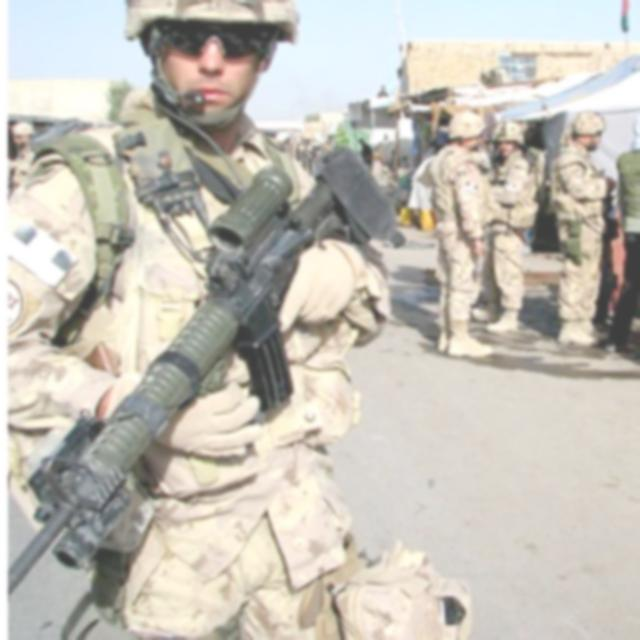m16: (9, 276, 297, 604)
